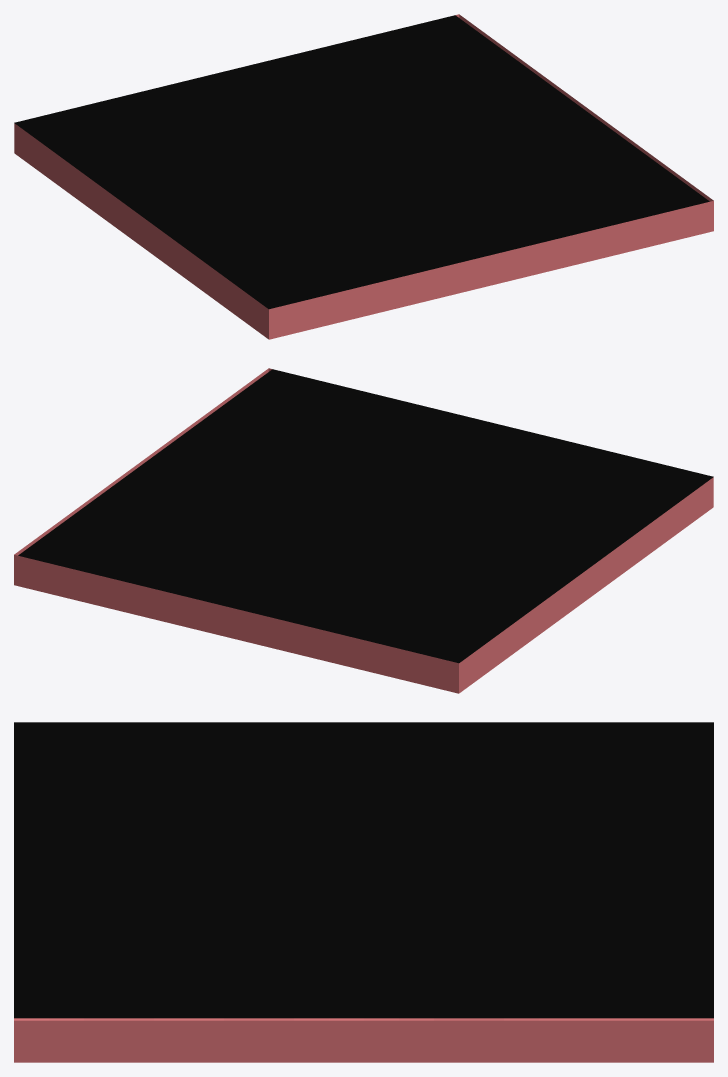
The model's file is 09-CaveSingleCelling.fbx.
3 renders of one model, top to bottom at view 1: azimuth 30°, elevation 25°; view 2: azimuth 150°, elevation 25°; view 3: azimuth 270°, elevation 25°, orthographic. The views are drawn at different scales.
Visible parts, largest first — view 1: CaveSingleCellingLightStopper, CaveSingleCelling; view 2: CaveSingleCellingLightStopper, CaveSingleCelling; view 3: CaveSingleCellingLightStopper, CaveSingleCelling.
Part boxes in pixels (x1,y1,x2,y2): CaveSingleCellingLightStopper: (14, 15, 709, 309); CaveSingleCelling: (14, 14, 713, 339); CaveSingleCellingLightStopper: (18, 369, 713, 663); CaveSingleCelling: (14, 368, 713, 693); CaveSingleCellingLightStopper: (14, 722, 713, 1018); CaveSingleCelling: (14, 1018, 713, 1062).
Bounding box in the file's own units: 404 × 34.88 × 400.
